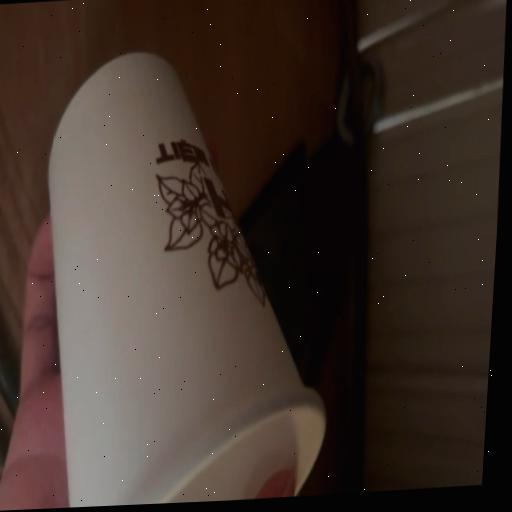Ly_giay: (49, 54, 325, 508)
